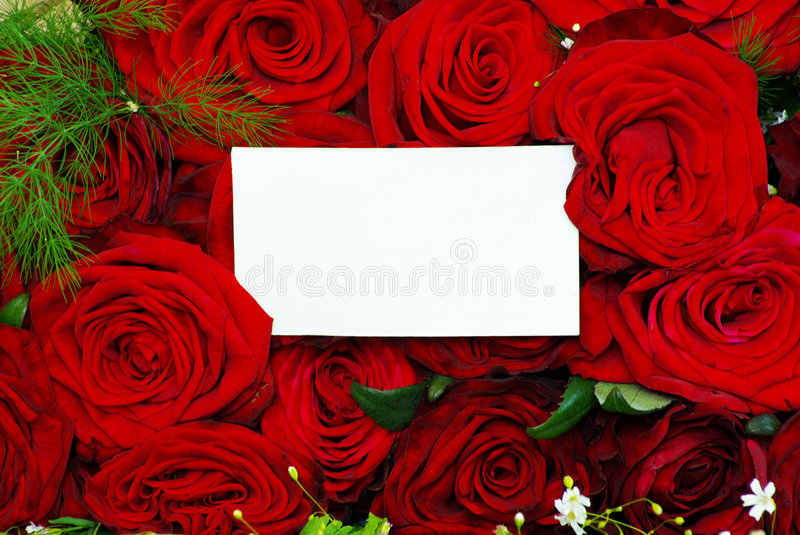RedRose: (26, 228, 284, 452), (546, 23, 778, 267), (609, 220, 800, 418), (391, 369, 604, 535), (375, 3, 558, 143)
